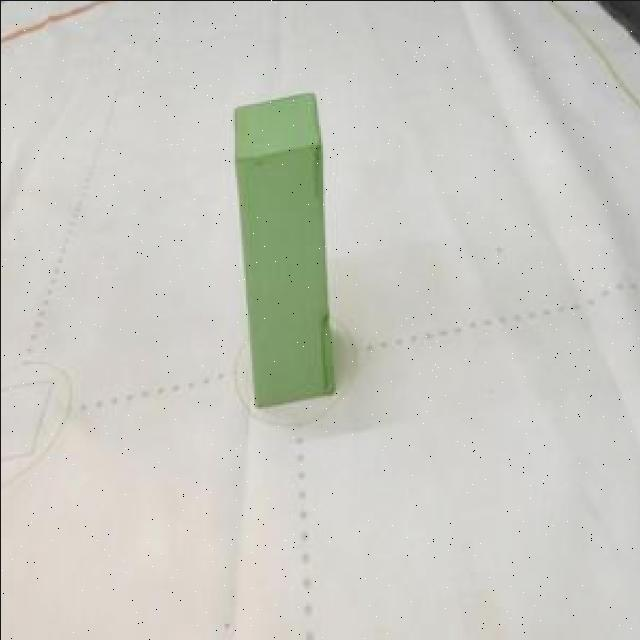greenbox: (236, 92, 326, 408)
